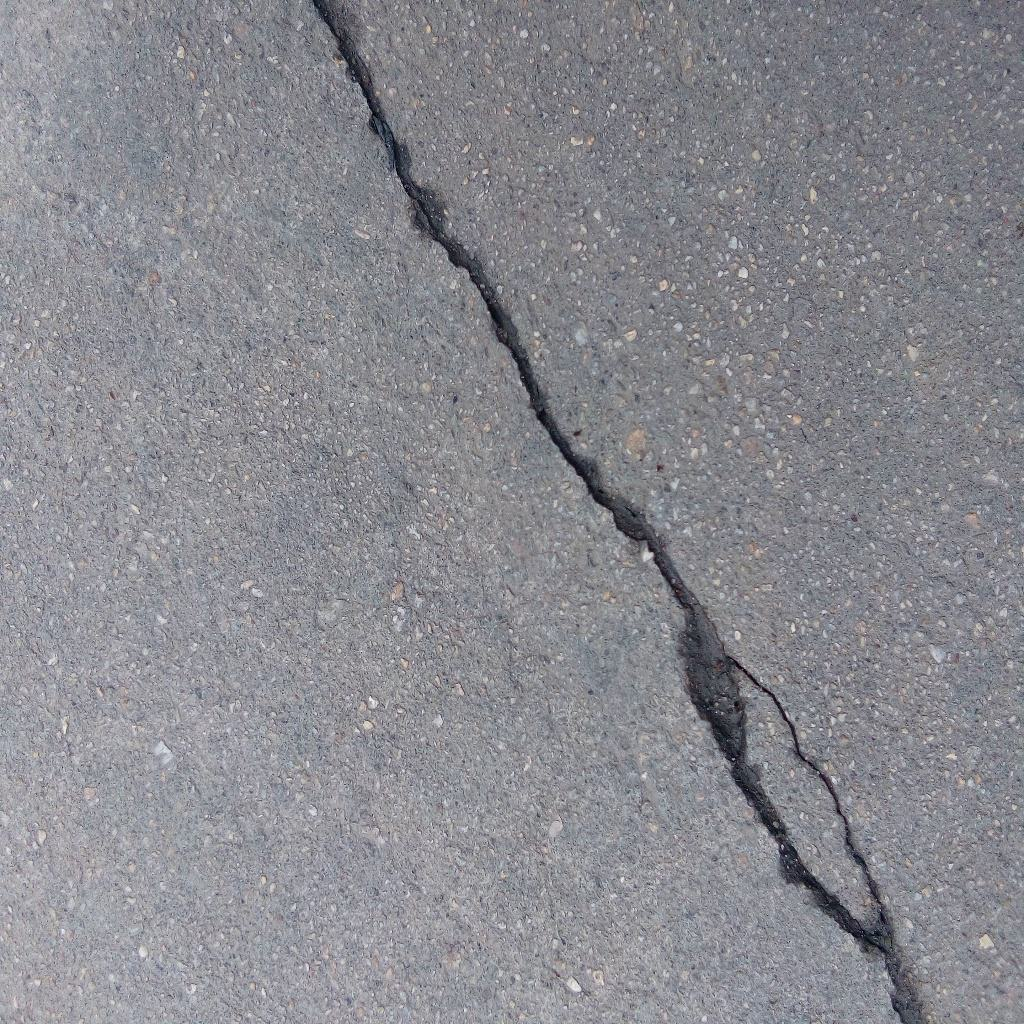Crack: (310, 1, 927, 1024)
